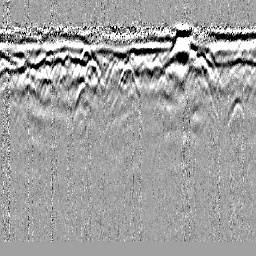cavity: (115, 62, 140, 97)
